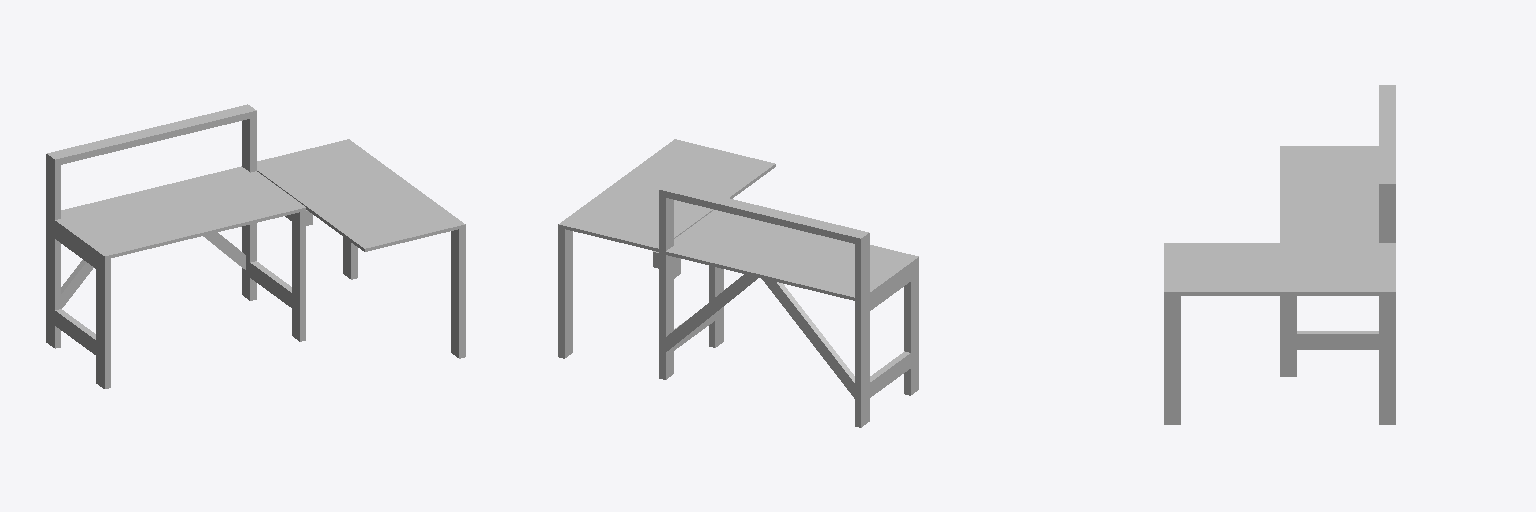
The model's file is Desk Assembly.obj.
3 renders of one model, left to right at view 1: azimuth 30°, elevation 25°; view 2: azimuth 150°, elevation 25°; view 3: azimuth 270°, elevation 25°, orthographic.
Visible parts, largest first — view 1: Solid1:1, Solid1:13, Solid1:7, Solid1, Solid1:6, Solid1:15, Solid1:5, Solid1:2, Solid1:8, Solid1:9, Solid1:4, Solid1:10 (+2 smaller); view 2: Solid1:1, Solid1:13, Solid1:7, Solid1, Solid1:2, Solid1:14, Solid1:10, Solid1:6, Solid1:11, Solid1:5, Solid1:9, Solid1:4; view 3: Solid1:13, Solid1:1, Solid1:14, Solid1:15, Solid1:7, Solid1:8, Solid1:5, Solid1:2.
Boxes of the visible parts, <box> form: Solid1:1: <box>55,166,305,259</box>; Solid1:13: <box>257,139,465,251</box>; Solid1:7: <box>46,104,256,165</box>; Solid1: <box>46,160,60,348</box>; Solid1:6: <box>96,254,110,388</box>; Solid1:15: <box>451,228,465,358</box>; Solid1:5: <box>292,211,305,341</box>; Solid1:2: <box>242,117,256,300</box>; Solid1:8: <box>250,261,291,307</box>; Solid1:9: <box>55,309,95,354</box>; Solid1:4: <box>55,224,95,268</box>; Solid1:10: <box>61,260,93,308</box>; Solid1:1: <box>666,210,918,300</box>; Solid1:13: <box>558,139,775,251</box>; Solid1:7: <box>659,184,869,244</box>; Solid1: <box>855,239,869,427</box>; Solid1:2: <box>659,196,673,379</box>; Solid1:14: <box>558,228,572,358</box>; Solid1:10: <box>761,278,854,398</box>; Solid1:6: <box>904,260,918,395</box>; Solid1:11: <box>666,274,757,351</box>; Solid1:5: <box>709,266,723,347</box>; Solid1:9: <box>870,351,910,397</box>; Solid1:4: <box>870,266,910,310</box>; Solid1:13: <box>1164,243,1395,295</box>; Solid1:1: <box>1280,146,1378,242</box>; Solid1:14: <box>1379,296,1395,424</box>; Solid1:15: <box>1164,296,1180,424</box>; Solid1:7: <box>1379,85,1395,189</box>; Solid1:8: <box>1297,331,1378,349</box>; Solid1:5: <box>1280,296,1296,376</box>; Solid1:2: <box>1379,190,1395,242</box>.
Bounding box in the file's own units: 72 × 44 × 48.